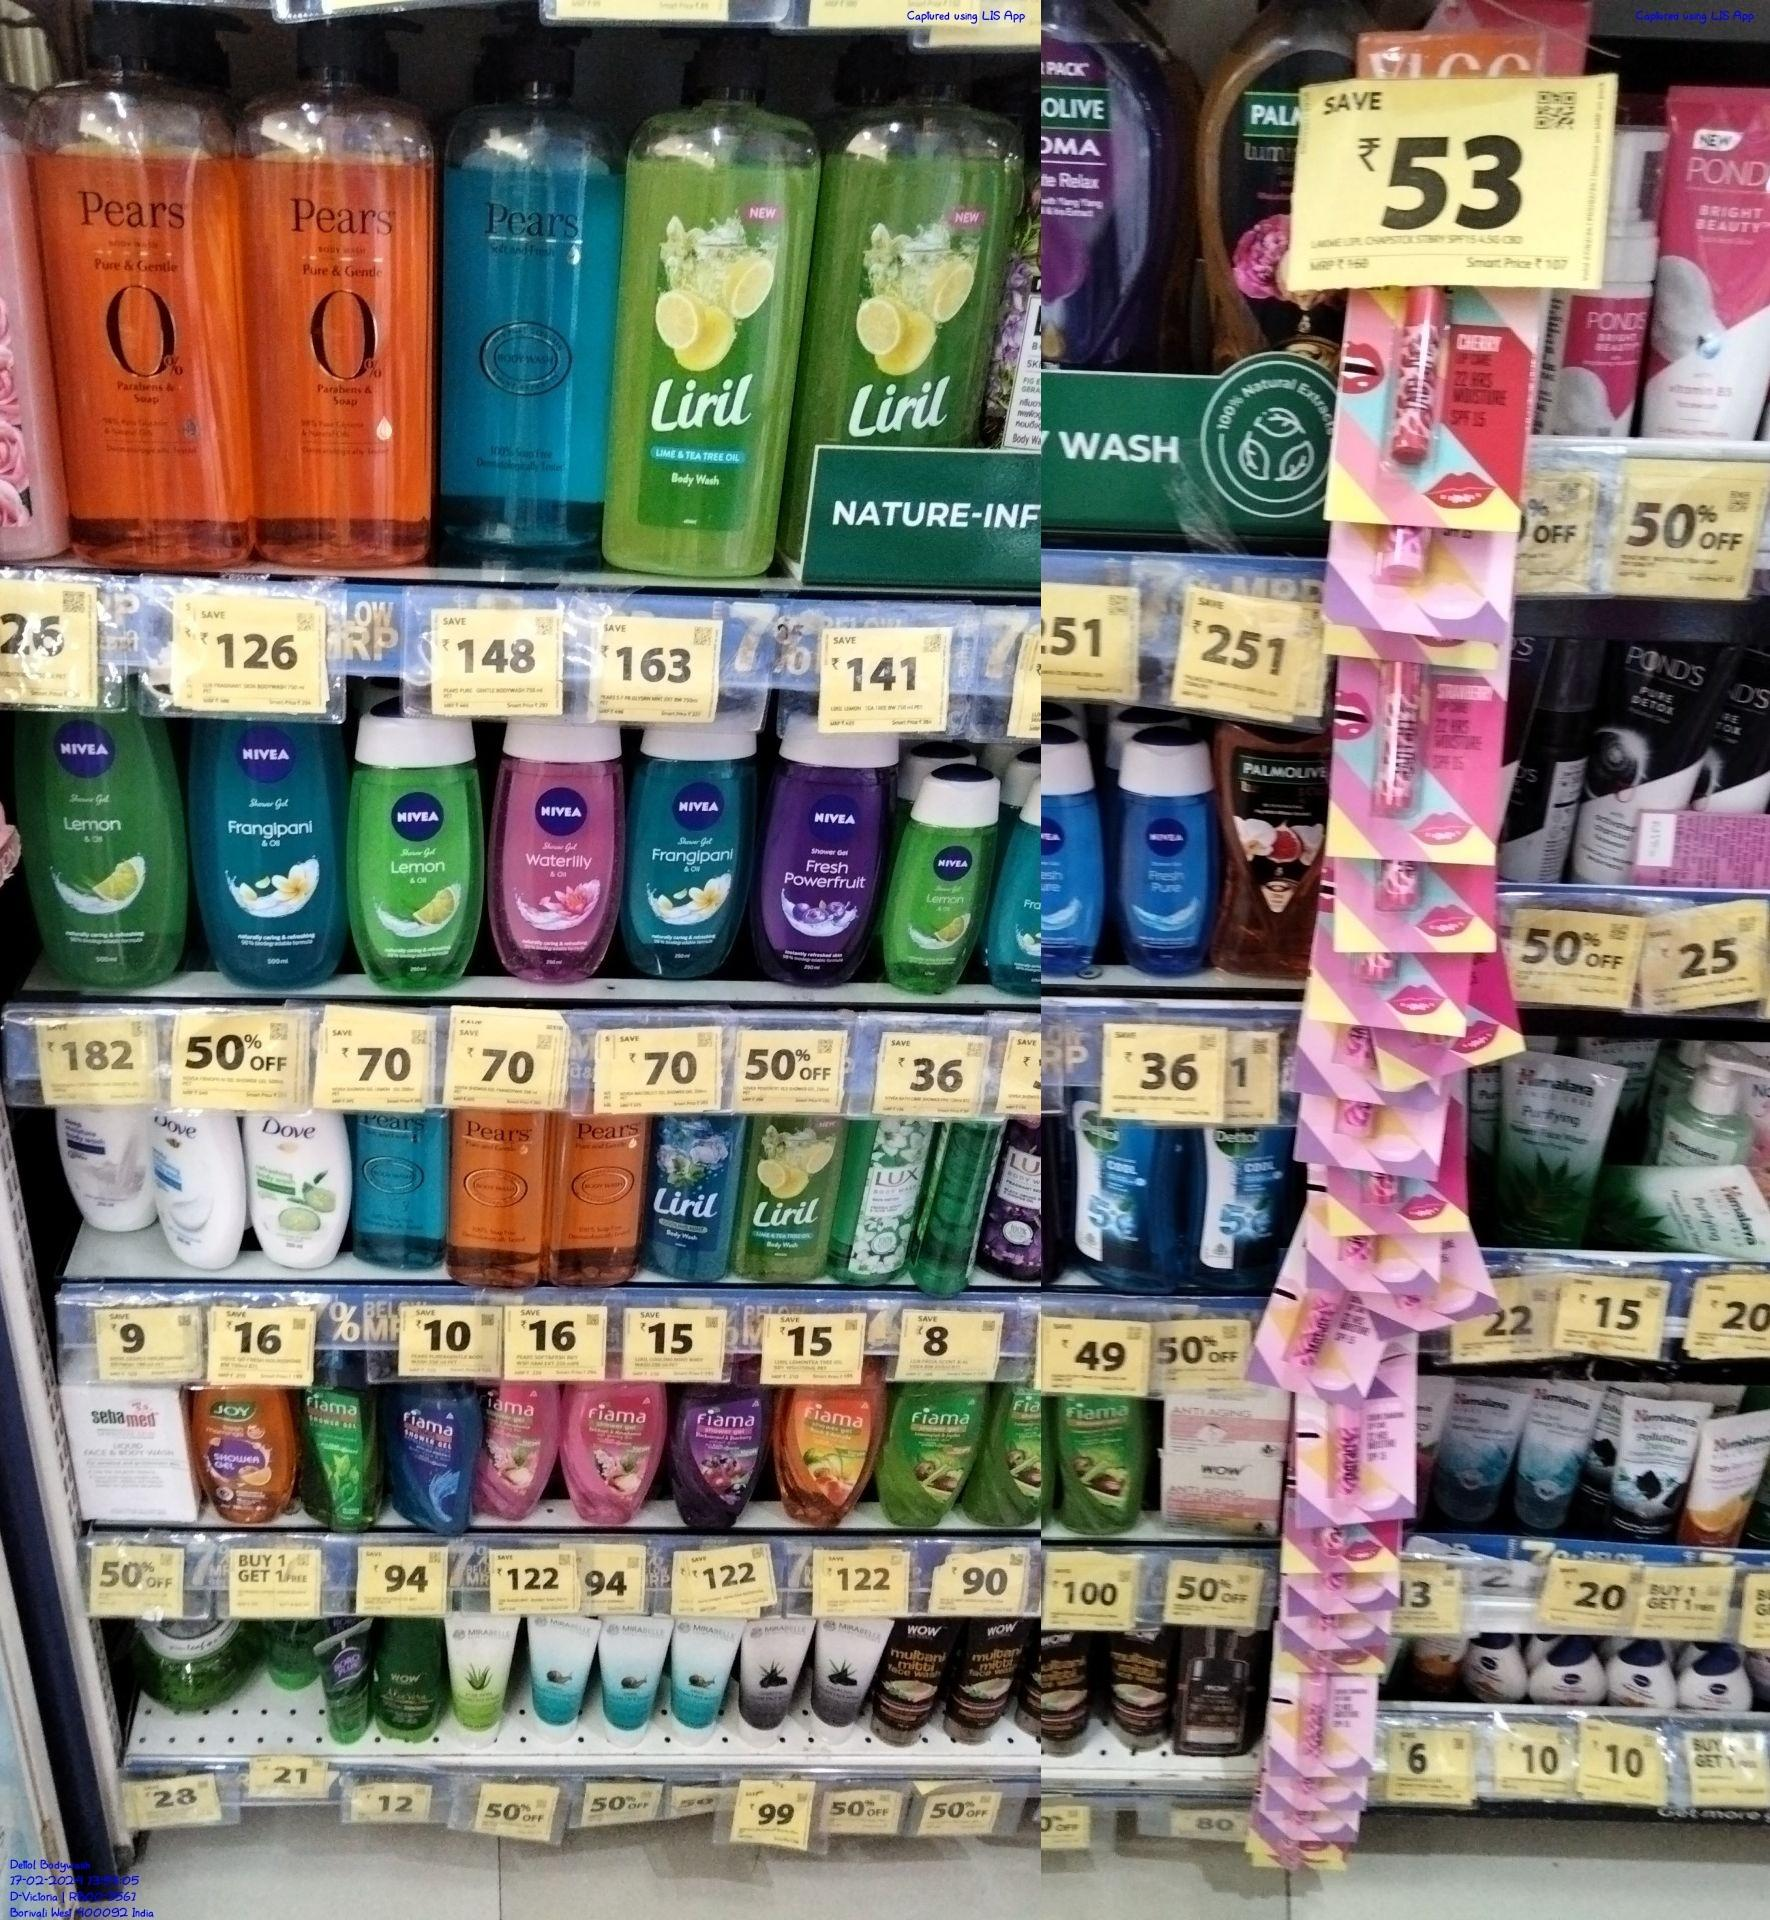Dettol_Bodywash_Cool: (1066, 1092, 1173, 1293), (1189, 1131, 1305, 1294)
Dove_Gentle_Exfoliating_Body_Wash_250ML: (151, 1111, 248, 1273)
Dove_Refreshing_Body_Wash_250ML: (251, 1107, 353, 1271)
Fiama_Shower_Gel_Lemongrass_and_Jojoba_250ML: (900, 1383, 999, 1530)
Fiama_Shower_Gel_Patchouli_and_Macadamia_250ML: (569, 1370, 666, 1529), (489, 1373, 554, 1529)
Fiama_Shower_Gel_Peach_and_Avocado_250ML: (778, 1383, 885, 1530)
Joy_Shower_Gel_Mandarin_and_Lemongrass_250ML: (204, 1380, 299, 1522)
Liril_Cooling_Mint_Body_Wash_250ML: (644, 1111, 733, 1286)
Liril_Lime_and_Tea_Tree_Oil_Body_Wash_250ML: (736, 1104, 838, 1288)
Lux_Body_Wash_Skin_Detox_Freesia_Scent_and_Alove_Vera_245ML: (857, 1122, 932, 1306)
Nivea_Shower_Gel_Frangipani_and_Oil_250ML: (201, 711, 346, 982), (629, 717, 748, 982)
Nivea_Shower_Gel_Fresh_Powerfruit_250ML: (766, 706, 883, 988)
Nivea_Shower_Gel_Lemon_and_Oil_250ML: (23, 712, 186, 987), (351, 707, 485, 990)
Nivea_Shower_Gel_Waterlily_and_Oil_250ML: (495, 712, 624, 983)
